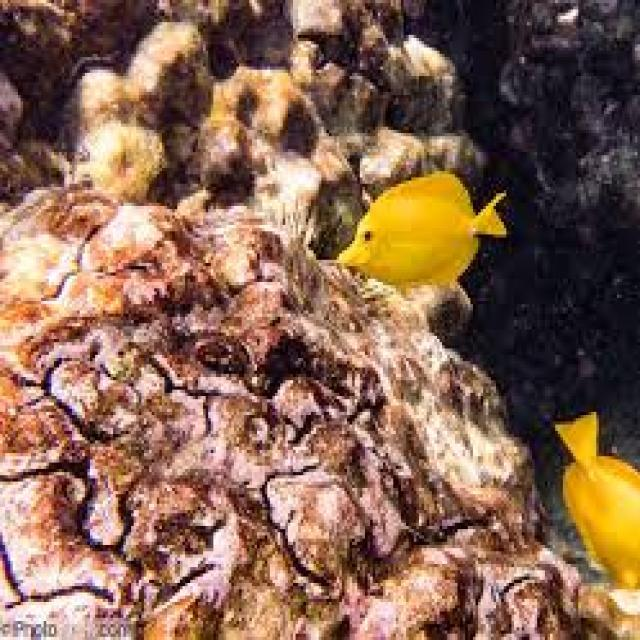YellowTang: (327, 161, 524, 297), (547, 405, 640, 594)
